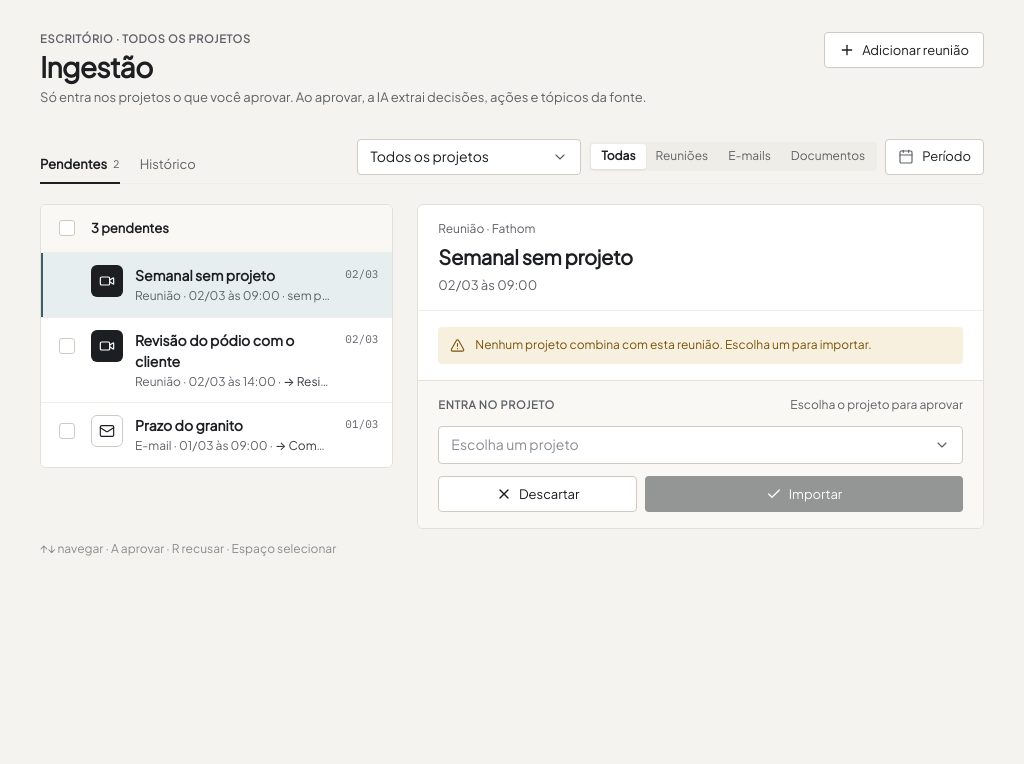
Test: Phase 3d · Ingestão › filters by source type and shows the history with who decided
The width and height of the screenshot is (1024, 764).
Expected: the option "Prazo do granito" is shown, [41,403,392,467]
Click the radio button labelled "E-mails": [749, 157] box [718,144,781,169]
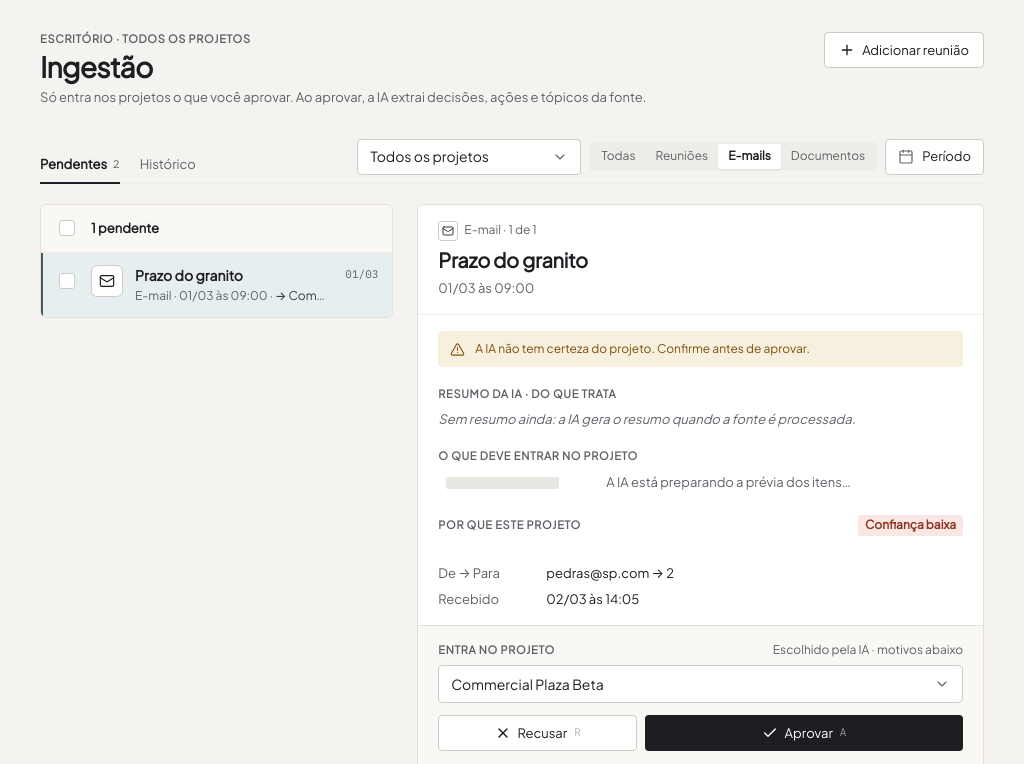
Result: the option "Revisão do pódio" is gone
Result: the option "Semanal sem projeto" is gone
Click the radio button labelled "Todas": [618, 157] box [591,144,646,169]
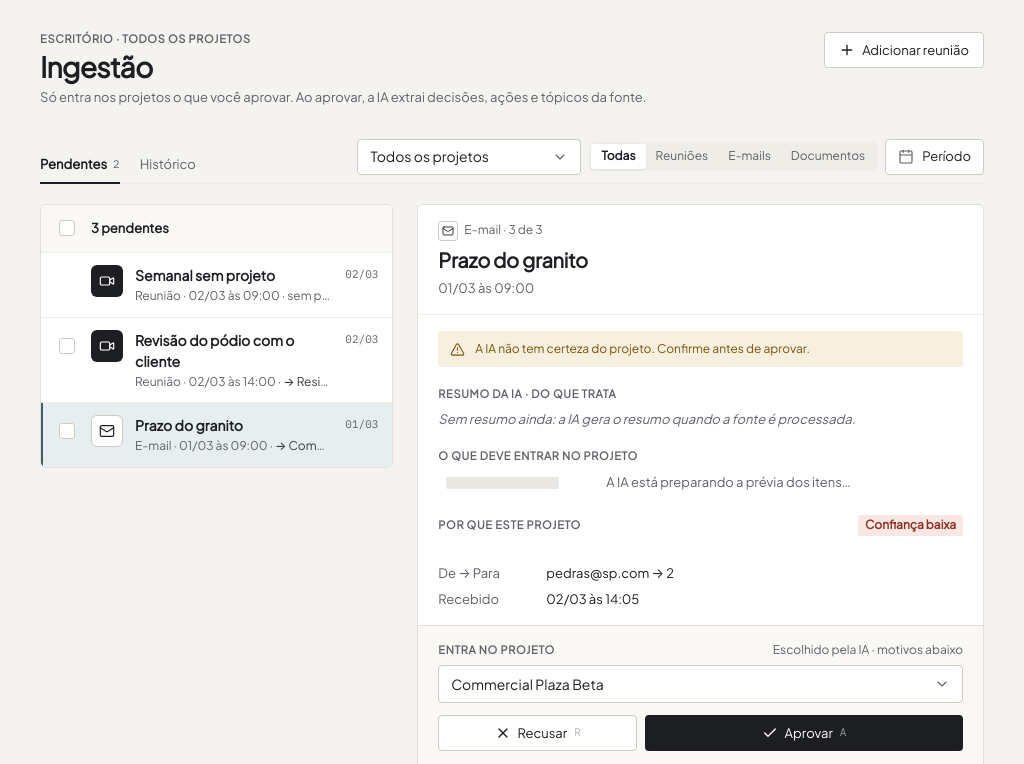
Click the tab "Histórico": [168, 166] box [140,148,196,184]
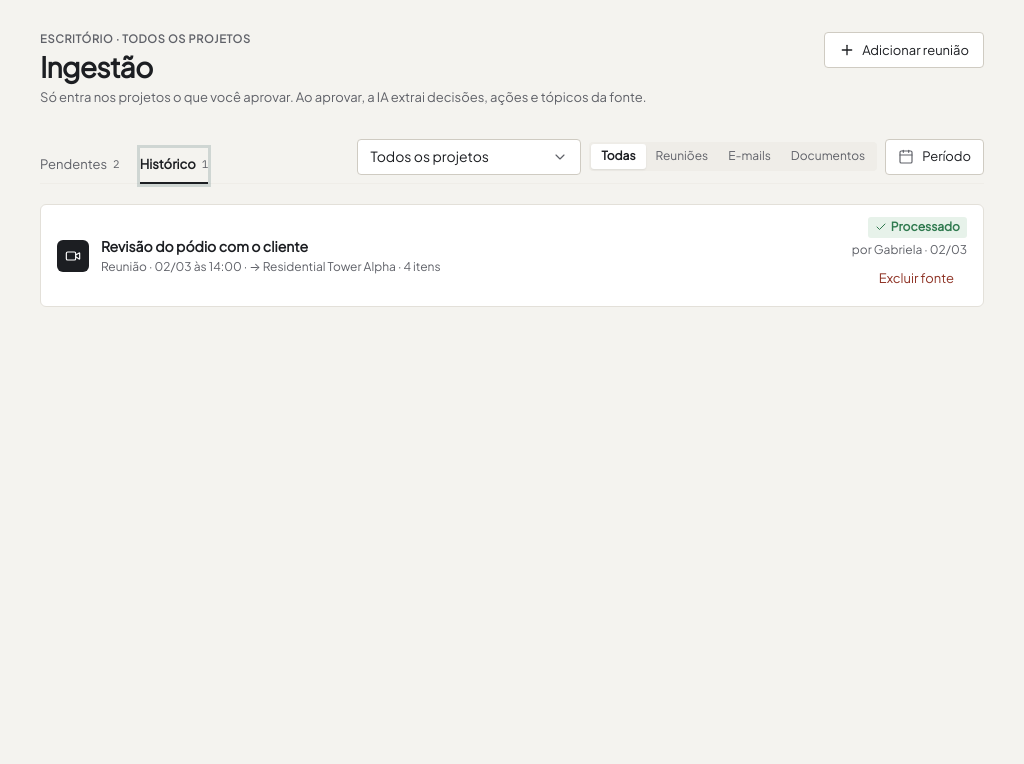
Result: the text "por Gabriela · 02/03" is shown at [852,242,967,258]
Result: the text "Processado" is shown at [868,217,967,238]
